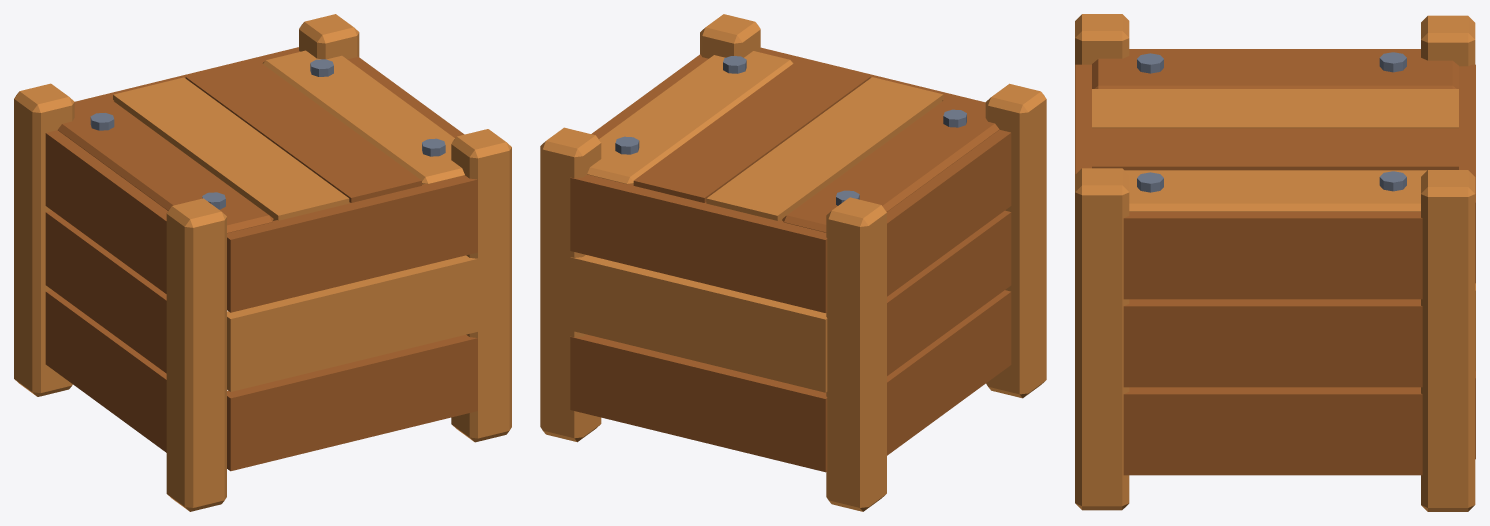
The model's file is WoodenCrate.fbx.
3 renders of one model, left to right at view 1: azimuth 30°, elevation 25°; view 2: azimuth 150°, elevation 25°; view 3: azimuth 270°, elevation 25°, orthographic. The views are drawn at different scales.
Visible parts, largest first — view 1: Crate_FrontBack_-1_2, Crate_FrontBack_-1_0, Crate_FrontBack_-1_1, Crate_Corner_0.425_-0.003, Crate_LidBoard_1, Crate_LidBoard_2, Crate_Corner_0.425_-0.001, Crate_Corner_0.425_-0.002, Crate_Side_-1_2, Crate_Side_-1_0, Crate_Side_-1_1, Crate_LidBoard_3 (+4 smaller); view 2: Crate_FrontBack_1_2, Crate_FrontBack_1_0, Crate_FrontBack_1_1, Crate_Corner_0.425_-0.002, Crate_LidBoard_1, Crate_LidBoard_2, Crate_Corner_0.425_-0.003, Crate_Corner_0.425_-0.425, Crate_Side_-1_2, Crate_Side_-1_0, Crate_Side_-1_1, Crate_LidBoard_3 (+4 smaller); view 3: Crate_Side_1_0, Crate_Side_1_1, Crate_Side_1_2, Crate_Corner_0.425_-0.425, Crate_Corner_0.425_-0.001, Crate_LidBoard_2, Crate_LidBoard_1, Crate_LidBoard_0, Crate_LidBoard_3, Crate_Corner_0.425_-0.003, Crate_Corner_0.425_-0.002, Crate_FrontBack_1_2 (+6 smaller).
Boxes of the visible parts, <box> form: Crate_FrontBack_-1_2: <box>227,175,477,312</box>; Crate_FrontBack_-1_0: <box>227,334,477,471</box>; Crate_FrontBack_-1_1: <box>227,255,477,391</box>; Crate_Corner_0.425_-0.003: <box>166,198,226,511</box>; Crate_LidBoard_1: <box>113,77,349,220</box>; Crate_LidBoard_2: <box>185,59,421,202</box>; Crate_Corner_0.425_-0.001: <box>451,129,511,442</box>; Crate_Corner_0.425_-0.002: <box>14,83,74,396</box>; Crate_Side_-1_2: <box>45,130,167,293</box>; Crate_Side_-1_0: <box>45,290,166,452</box>; Crate_Side_-1_1: <box>45,211,166,373</box>; Crate_LidBoard_3: <box>262,50,464,184</box>; Crate_FrontBack_1_2: <box>570,174,827,312</box>; Crate_FrontBack_1_0: <box>570,334,827,472</box>; Crate_FrontBack_1_1: <box>570,255,827,392</box>; Crate_Corner_0.425_-0.002: <box>826,197,886,511</box>; Crate_LidBoard_1: <box>706,77,943,220</box>; Crate_LidBoard_2: <box>633,59,870,202</box>; Crate_Corner_0.425_-0.003: <box>985,83,1046,398</box>; Crate_Corner_0.425_-0.425: <box>540,127,601,442</box>; Crate_Side_-1_2: <box>887,129,1011,296</box>; Crate_Side_-1_0: <box>887,290,1011,455</box>; Crate_Side_-1_1: <box>887,210,1011,375</box>; Crate_LidBoard_3: <box>587,51,793,184</box>; Crate_Side_1_0: <box>1123,387,1422,475</box>; Crate_Side_1_1: <box>1123,299,1422,387</box>; Crate_Side_1_2: <box>1123,212,1422,299</box>; Crate_Corner_0.425_-0.425: <box>1421,170,1475,511</box>; Crate_Corner_0.425_-0.001: <box>1075,168,1129,510</box>; Crate_LidBoard_2: <box>1092,128,1458,170</box>; Crate_LidBoard_1: <box>1092,89,1458,128</box>; Crate_LidBoard_0: <box>1092,52,1458,88</box>; Crate_LidBoard_3: <box>1125,170,1426,211</box>; Crate_Corner_0.425_-0.003: <box>1075,14,1129,174</box>; Crate_Corner_0.425_-0.002: <box>1421,15,1475,66</box>; Crate_FrontBack_1_2: <box>1459,64,1475,283</box>.
Bounding box in the file's own units: 1.09 × 0.9231 × 1.03.
